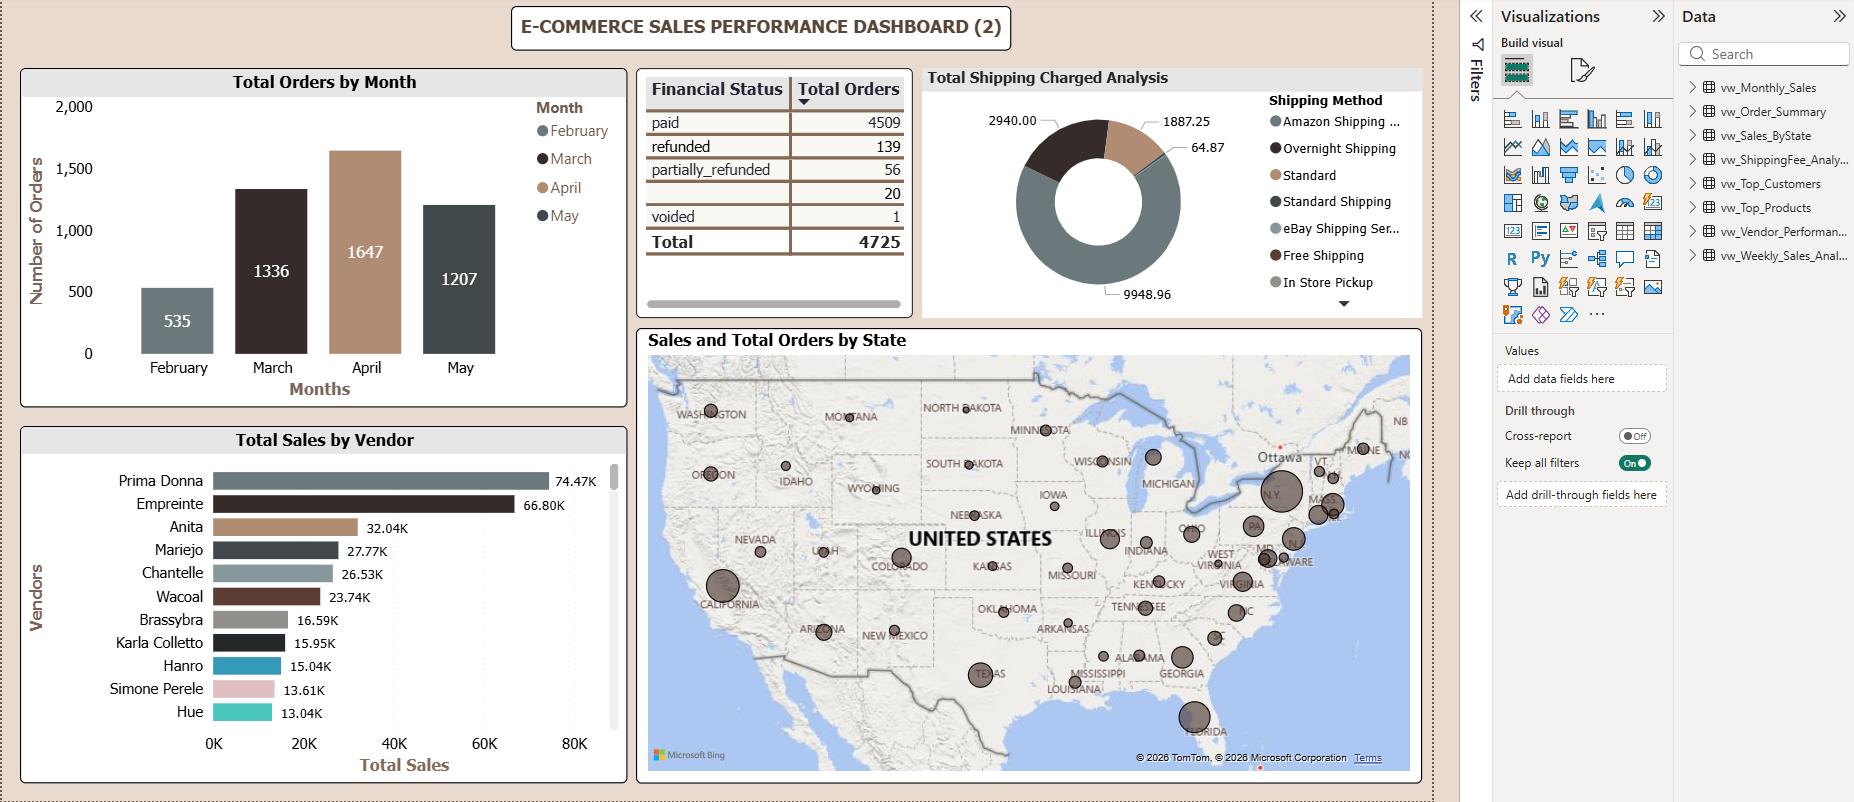

Layout of this report page (visuals, bound fields, positions):
{"tool":"powerbi","page":{"name":"Page 2","canvas":[1280,720],"ordinal":1},"visuals":[{"type":"barChart","title":"Total Sales by Vendor","fields":{"Category":["vw_Vendor_Performance.Vendor"],"Y":["Sum(vw_Vendor_Performance.Total_Revenue)"],"Series":["vw_Vendor_Performance.Vendor"]},"box":[16,384,544,320],"z":0},{"type":"map","title":"Sales and Total Orders by State","fields":{"Category":["vw_Sales_ByState.State"],"Size":["Sum(vw_Sales_ByState.Total_Revenue)"]},"box":[568,296,704,408],"z":1000},{"type":"tableEx","fields":{"Values":["vw_Order_Summary.Financial_Status","CountNonNull(vw_Order_Summary.Order_ID)"]},"box":[568,64,248,224],"z":2000},{"type":"columnChart","title":"Total Orders by Month","fields":{"Category":["vw_Order_Summary.Order_Date.Variation.Date Hierarchy.Month"],"Y":["CountNonNull(vw_Order_Summary.Order_ID)"],"Series":["vw_Order_Summary.Order_Date.Variation.Date Hierarchy.Month"]},"box":[16,64,544,304],"z":3000},{"type":"textbox","box":[456,8,448,40],"z":5000},{"type":"donutChart","title":"Total Shipping Charged Analysis","fields":{"Category":["vw_ShippingFee_Analysis.Shipping_Method"],"Y":["Sum(vw_ShippingFee_Analysis.Total_Shipping_Fees)"]},"box":[824,64,448,224],"z":6000}]}

Visuals, with their boxes on the page's 1280x720 design canvas (x1, y1, x2, y2). These are canvas units, not pixel positions in the 1854x802 screenshot, which may show the page scaled, cropped or inside an application window:
"Total Sales by Vendor" barChart: bbox=[16, 384, 560, 704]
"Sales and Total Orders by State" map: bbox=[568, 296, 1272, 704]
tableEx - vw_Order_Summary.Financial_Status x CountNonNull(vw_Order_Summary.Order_ID): bbox=[568, 64, 816, 288]
"Total Orders by Month" columnChart: bbox=[16, 64, 560, 368]
textbox: bbox=[456, 8, 904, 48]
"Total Shipping Charged Analysis" donutChart: bbox=[824, 64, 1272, 288]
